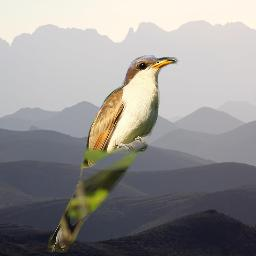Cuckoo: (45, 52, 180, 256)
